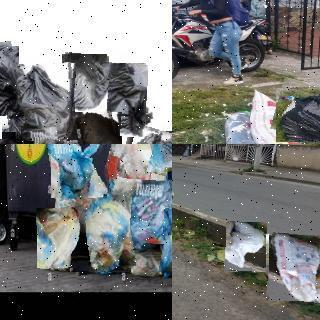Garbage: (67, 196, 134, 274), (14, 63, 77, 144), (93, 144, 172, 205), (267, 233, 320, 302), (120, 179, 172, 244), (48, 144, 109, 199), (102, 63, 147, 137), (36, 207, 87, 269), (273, 82, 320, 144), (61, 53, 108, 113), (225, 222, 267, 273), (0, 43, 22, 134), (69, 110, 127, 144)
